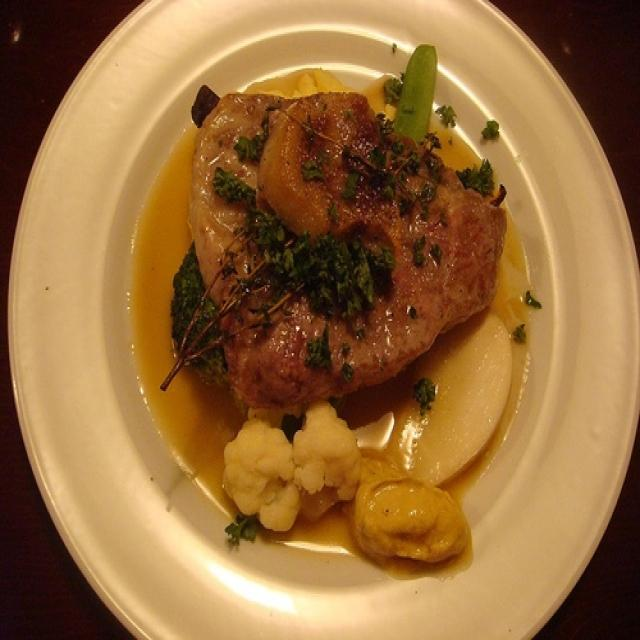猪肉菜式: (4, 12, 627, 628)
